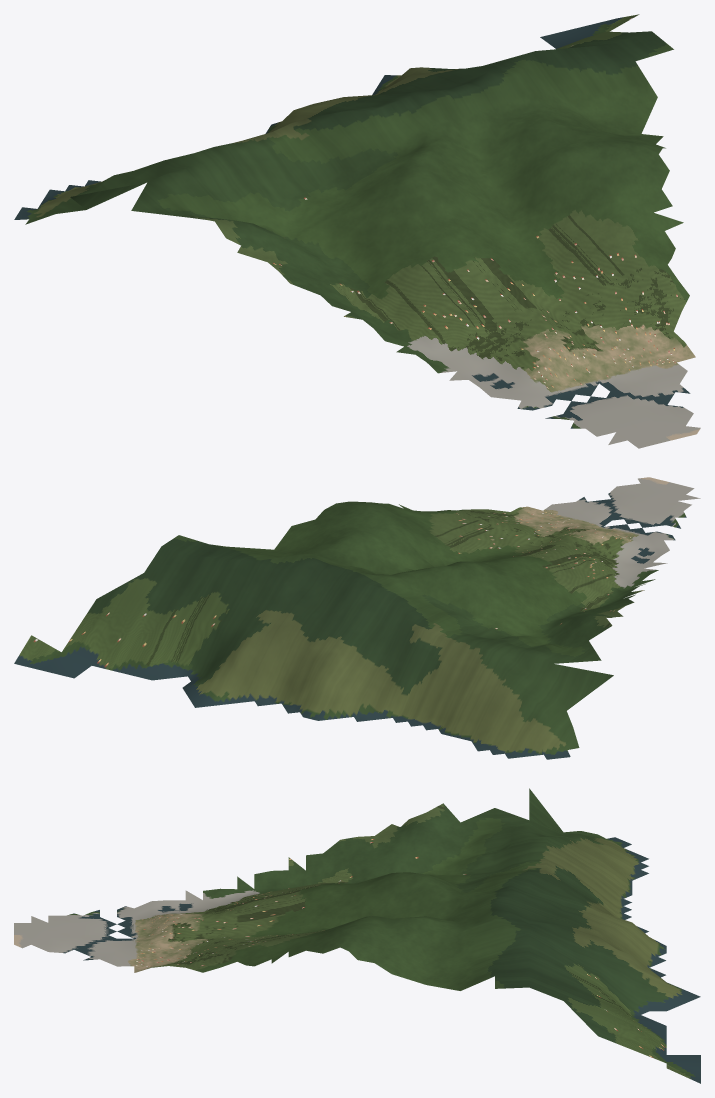
File: SM_Fondale_Colline_SO_LOD2.fbx
3 renders of one model, top to bottom at view 1: azimuth 30°, elevation 25°; view 2: azimuth 150°, elevation 25°; view 3: azimuth 270°, elevation 25°, orthographic. The views are drawn at different scales.
Visible parts, largest first — view 1: SM_Fondale_Colline_SO_LOD2; view 2: SM_Fondale_Colline_SO_LOD2; view 3: SM_Fondale_Colline_SO_LOD2.
Part boxes in pixels (x1=…): SM_Fondale_Colline_SO_LOD2: x1=14, y1=14, x2=700, y2=448; SM_Fondale_Colline_SO_LOD2: x1=14, y1=477, x2=700, y2=759; SM_Fondale_Colline_SO_LOD2: x1=14, y1=788, x2=700, y2=1083.
Size of the model in its own units: 408000 by 480000 by 58495.
1 material, 1 textured.
